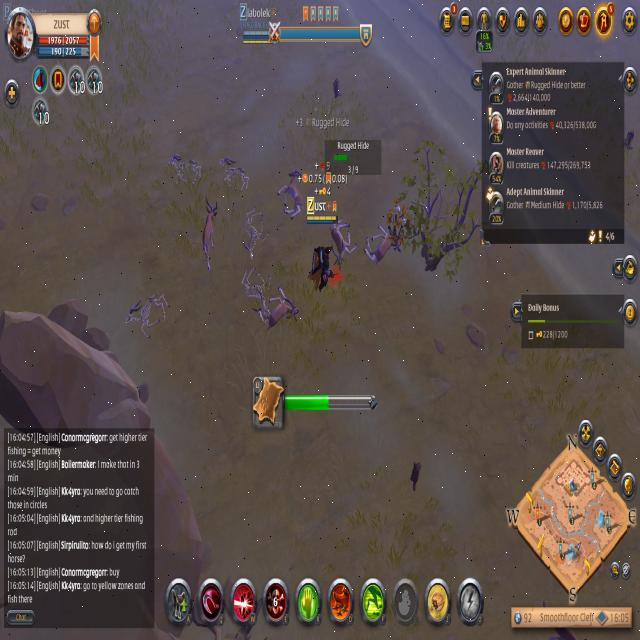deer_alive: (191, 196, 230, 274)
deer_dead: (256, 280, 306, 342), (362, 216, 403, 274), (275, 164, 308, 224), (328, 216, 360, 270)
harvesting: (284, 381, 381, 423)
